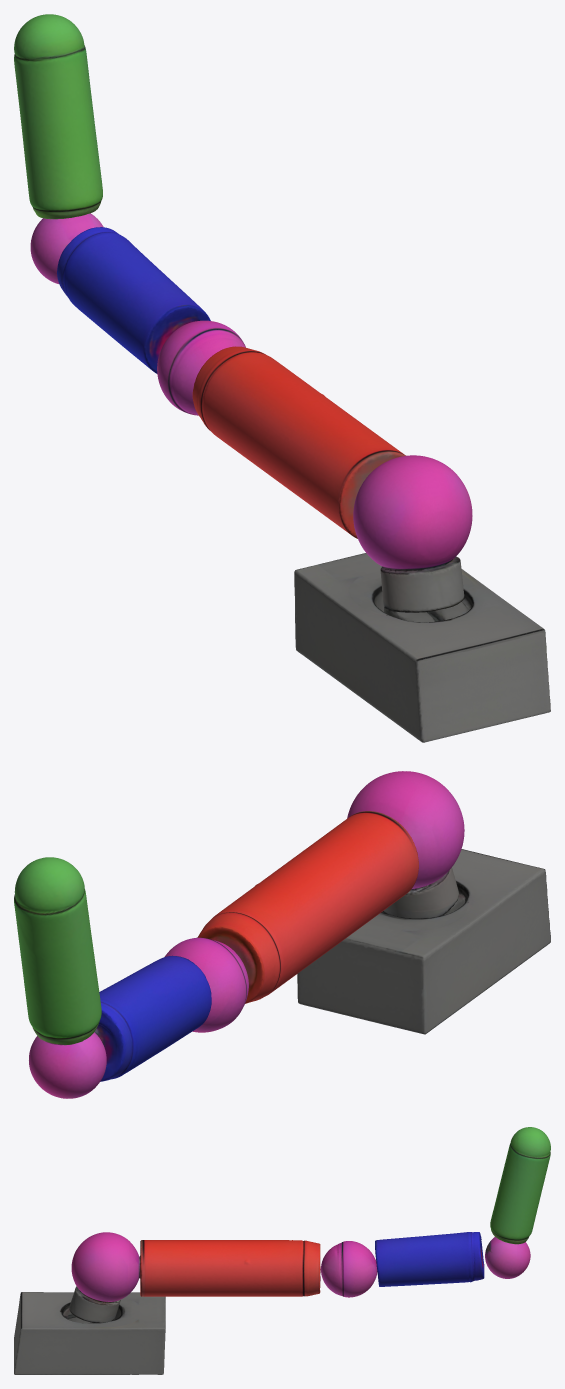
3 views of the same model, one above another, from view 1: azimuth 30°, elevation 25°; view 2: azimuth 150°, elevation 25°; view 3: azimuth 270°, elevation 25° (orthographic). The views are drawn at different scales.
Visible parts, largest first — view 1: tripo_node_b37b3f45-534c-4110-ac8b-d924dc0650d9; view 2: tripo_node_b37b3f45-534c-4110-ac8b-d924dc0650d9; view 3: tripo_node_b37b3f45-534c-4110-ac8b-d924dc0650d9.
Part boxes in pixels (box(x1,y1,x2,y2)): tripo_node_b37b3f45-534c-4110-ac8b-d924dc0650d9: box(14, 14, 550, 742); tripo_node_b37b3f45-534c-4110-ac8b-d924dc0650d9: box(14, 771, 550, 1098); tripo_node_b37b3f45-534c-4110-ac8b-d924dc0650d9: box(14, 1127, 550, 1374).
Size of the model in its own units: 0.1632 by 0.47 by 1.
1 material, 1 textured.
